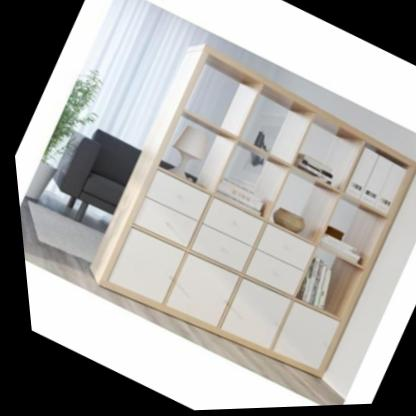Shelf: (55, 28, 416, 404)
